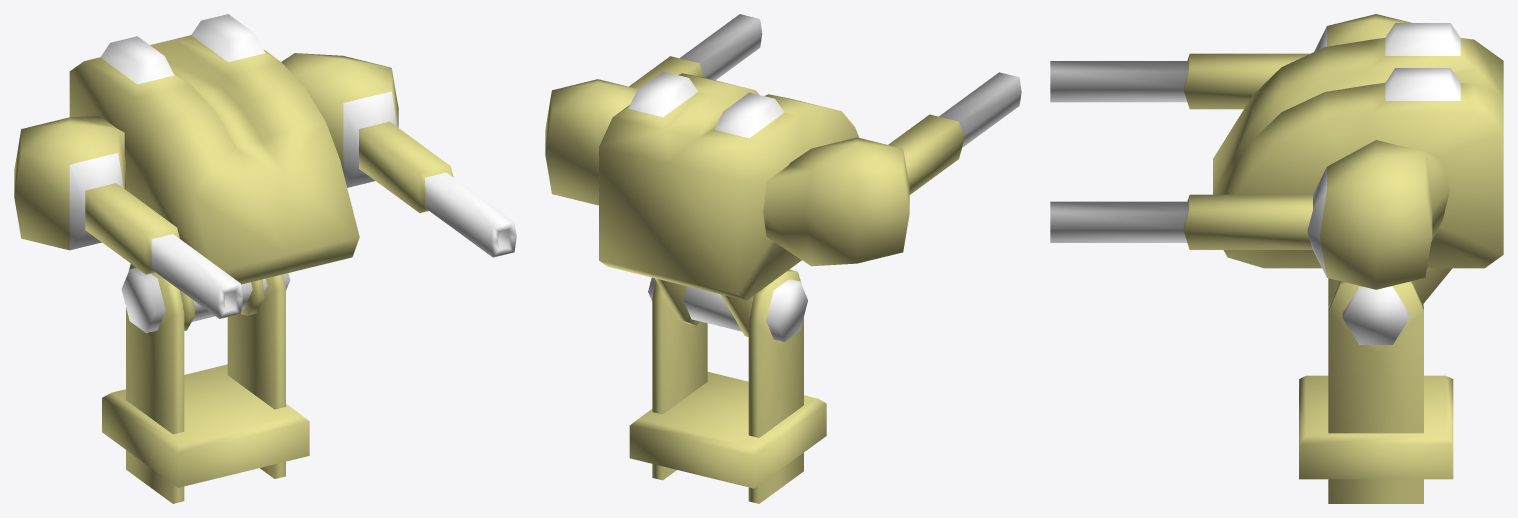
Rendered from Twins.fbx.
3 renders of one model, left to right at view 1: azimuth 30°, elevation 25°; view 2: azimuth 150°, elevation 25°; view 3: azimuth 270°, elevation 25°, orthographic. The views are drawn at different scales.
Visible parts, largest first — view 1: Head, GUN3, RightBarrel, RightBarrel.001, LeftBarrel.001, LeftBarrel; view 2: Head, GUN3, RightBarrel, LeftBarrel, RightBarrel.001, LeftBarrel.001; view 3: Head, GUN3, LeftBarrel, LeftBarrel.001, RightBarrel.001, RightBarrel.
Part boxes in pixels (x1=…): Head: x1=69, y1=14, x2=359, y2=284; GUN3: x1=102, y1=264, x2=309, y2=503; RightBarrel: x1=14, y1=116, x2=125, y2=250; RightBarrel.001: x1=85, y1=183, x2=242, y2=318; LeftBarrel.001: x1=359, y1=121, x2=516, y2=257; LeftBarrel: x1=281, y1=53, x2=398, y2=187; Head: x1=599, y1=71, x2=859, y2=300; GUN3: x1=629, y1=269, x2=826, y2=503; RightBarrel: x1=763, y1=137, x2=909, y2=266; LeftBarrel: x1=545, y1=79, x2=638, y2=205; RightBarrel.001: x1=888, y1=72, x2=1021, y2=194; LeftBarrel.001: x1=629, y1=14, x2=762, y2=88; Head: x1=1213, y1=23, x2=1503, y2=268; GUN3: x1=1299, y1=268, x2=1453, y2=503; LeftBarrel: x1=1307, y1=140, x2=1449, y2=289; LeftBarrel.001: x1=1050, y1=194, x2=1312, y2=249; RightBarrel.001: x1=1050, y1=53, x2=1309, y2=109; RightBarrel: x1=1314, y1=14, x2=1411, y2=51.
Bounding box in the file's own units: 356 × 370 × 358.
